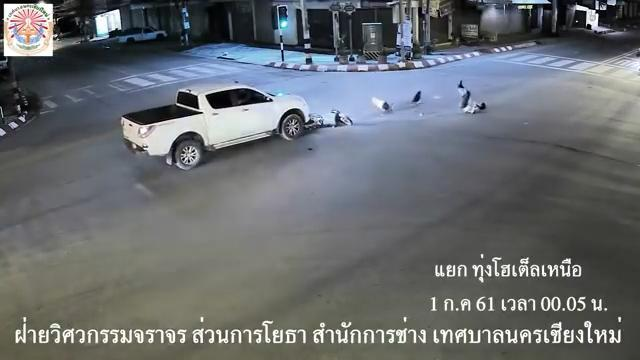accident: (457, 79, 490, 117)
